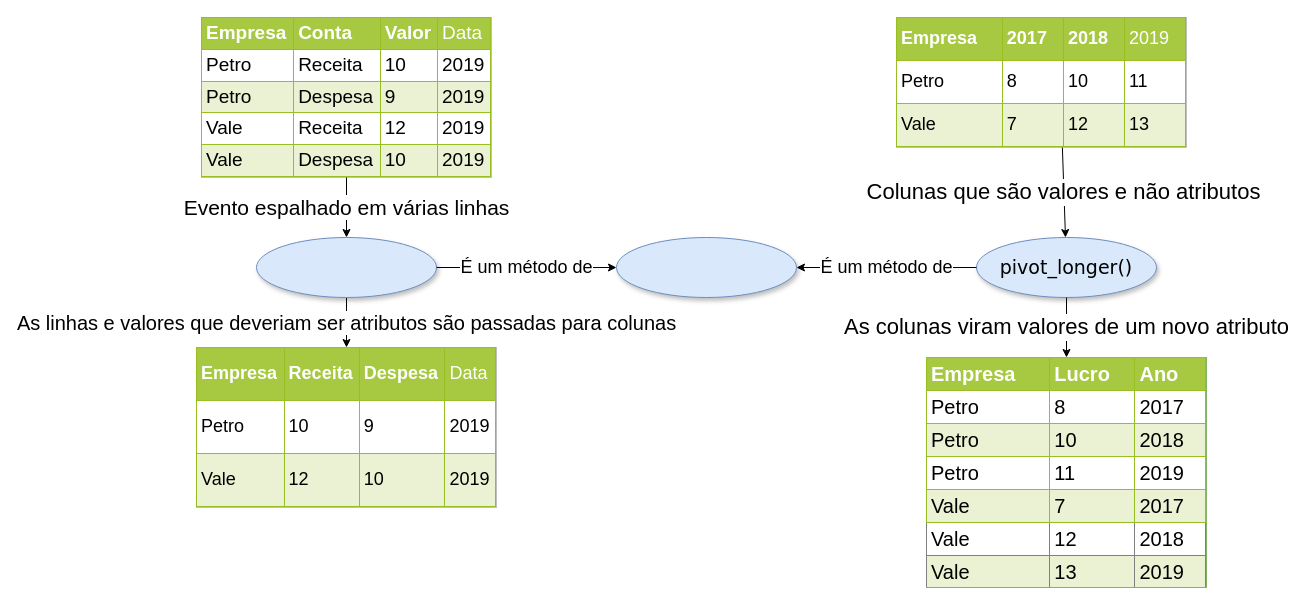
Image size: 1306x605. Some labels were removed from this diagram. Each missing label, with the centre of its shape:
"pivot_wider()" goes at point (347, 268).
"tidyr" goes at point (707, 268).
